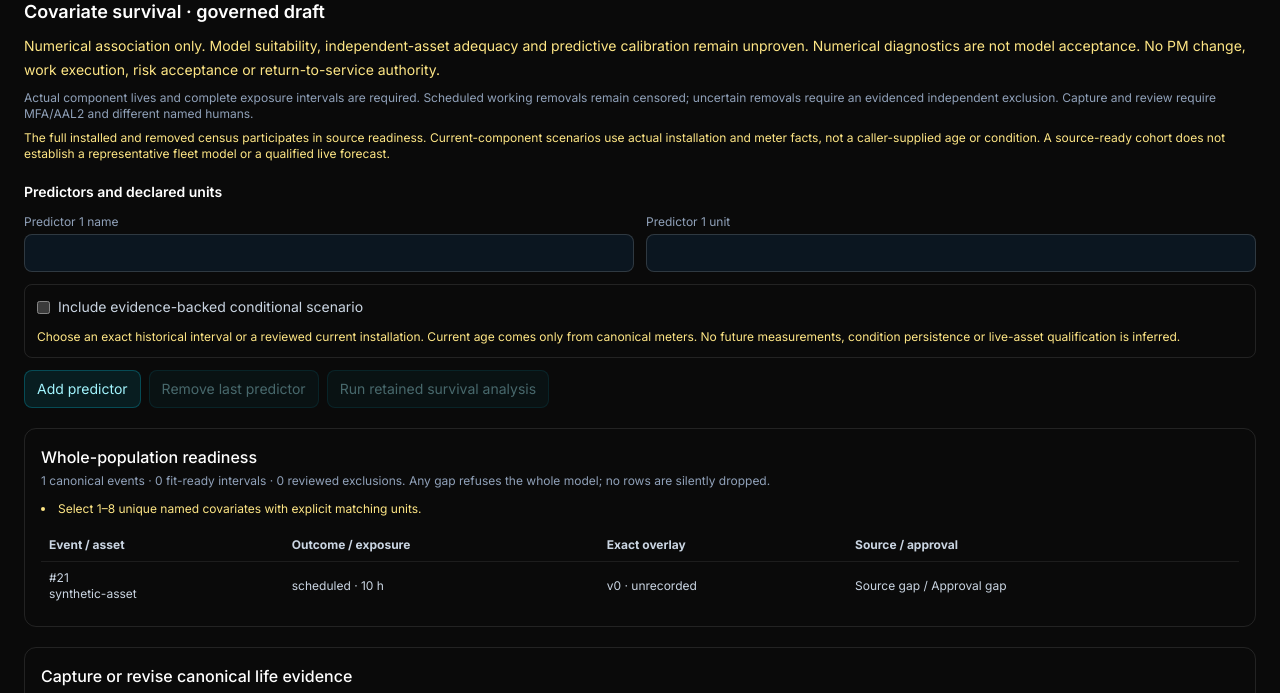
Test case: governed covariate survival workbench › sends only scope and declared predictors to the service and displays retained refusal IDs
Expected: the heading "Whole-population readiness" is shown, [41,447,257,467]
Step 1. Type "synthetic_load" into the field labelled "Predictor 1 name" → (329, 253), box [24,234,634,272]
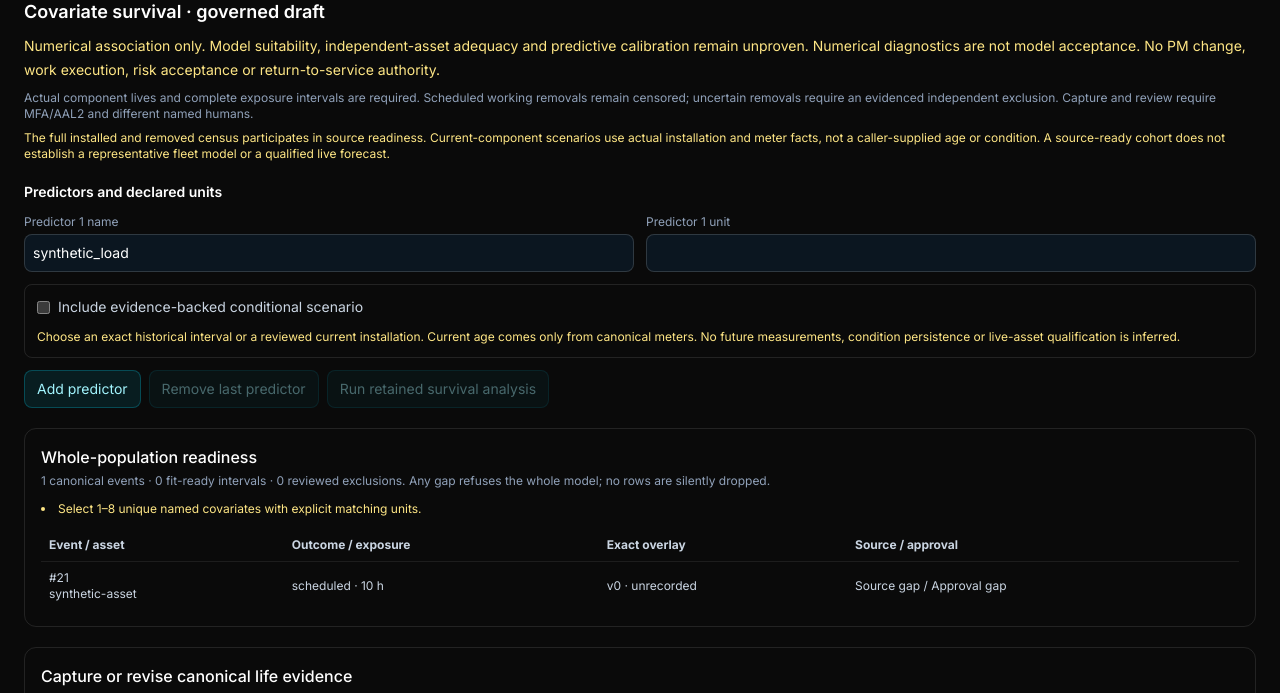
Step 2. Type "ratio" into the field labelled "Predictor 1 unit" → (951, 253), box [646,234,1256,272]
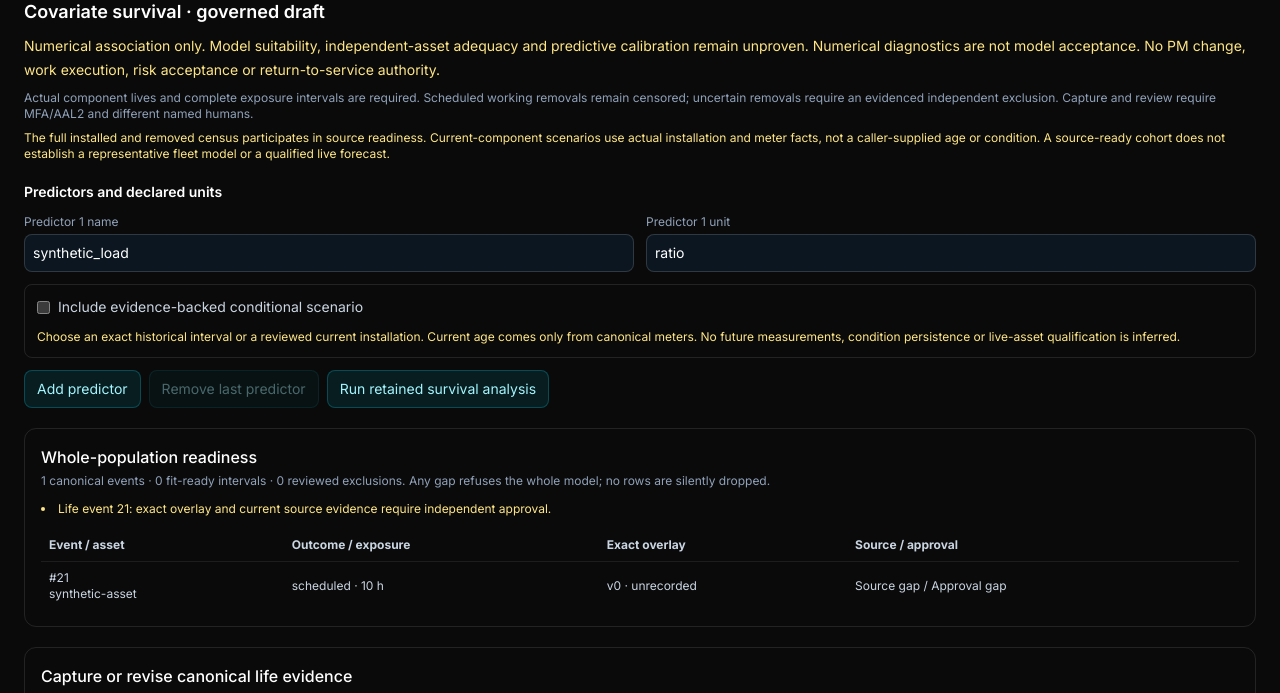
Step 3. Click the button "Run retained survival analysis" → (438, 389), box [327,370,549,408]
(page scrolled)
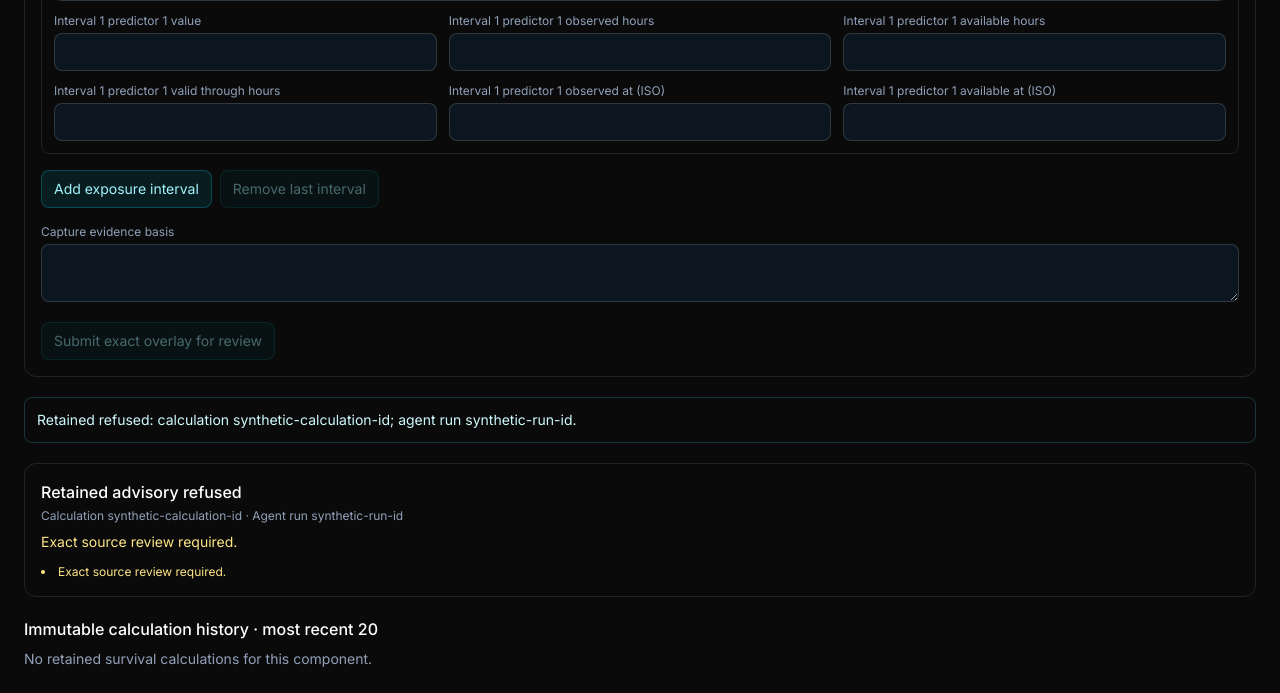
Expected: the heading "Retained advisory refused" is shown, [41,482,242,502]
Expected: the text "Calculation synthetic-calculation-id" is shown, [41,508,403,523]
Expected: the text "Exact source review required." is shown 2 times, [41,533,237,550]; [58,564,226,579]
